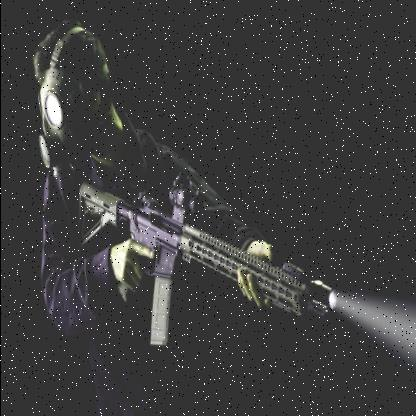rifle: (65, 122, 352, 389)
